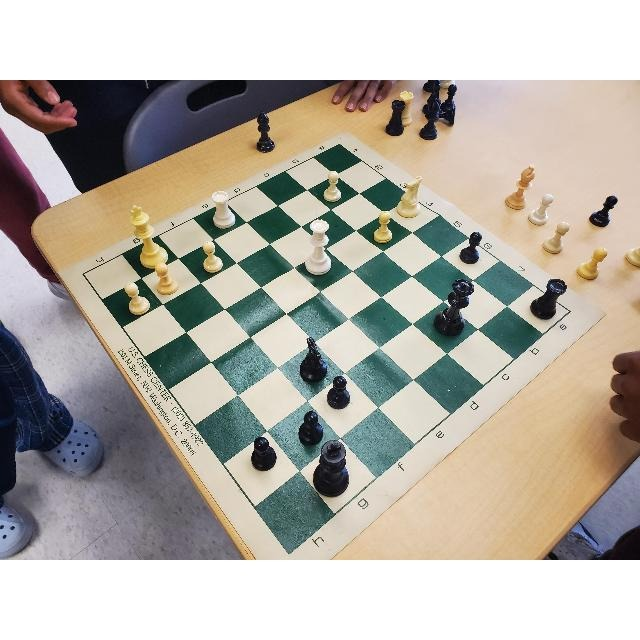black-king: (314, 437, 350, 498)
black-knight: (298, 336, 329, 383)
black-queen: (430, 277, 476, 339)
black-rook: (528, 276, 567, 321)
white-king: (131, 204, 170, 268)
white-knight: (396, 175, 424, 221)
white-pawn: (123, 281, 153, 317), (199, 239, 225, 275), (371, 210, 395, 246), (155, 260, 179, 296), (323, 169, 343, 202)
white-queen: (305, 219, 333, 277)
white-rook: (210, 191, 236, 229)
